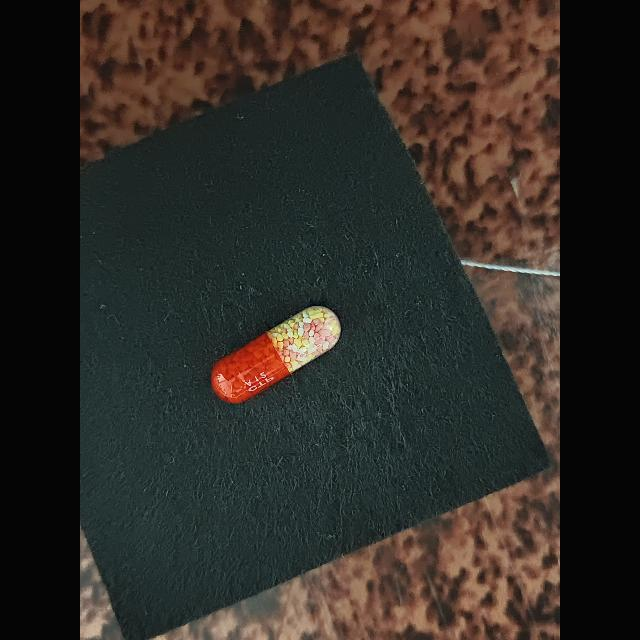Intact Capsule: (211, 306, 341, 404)
